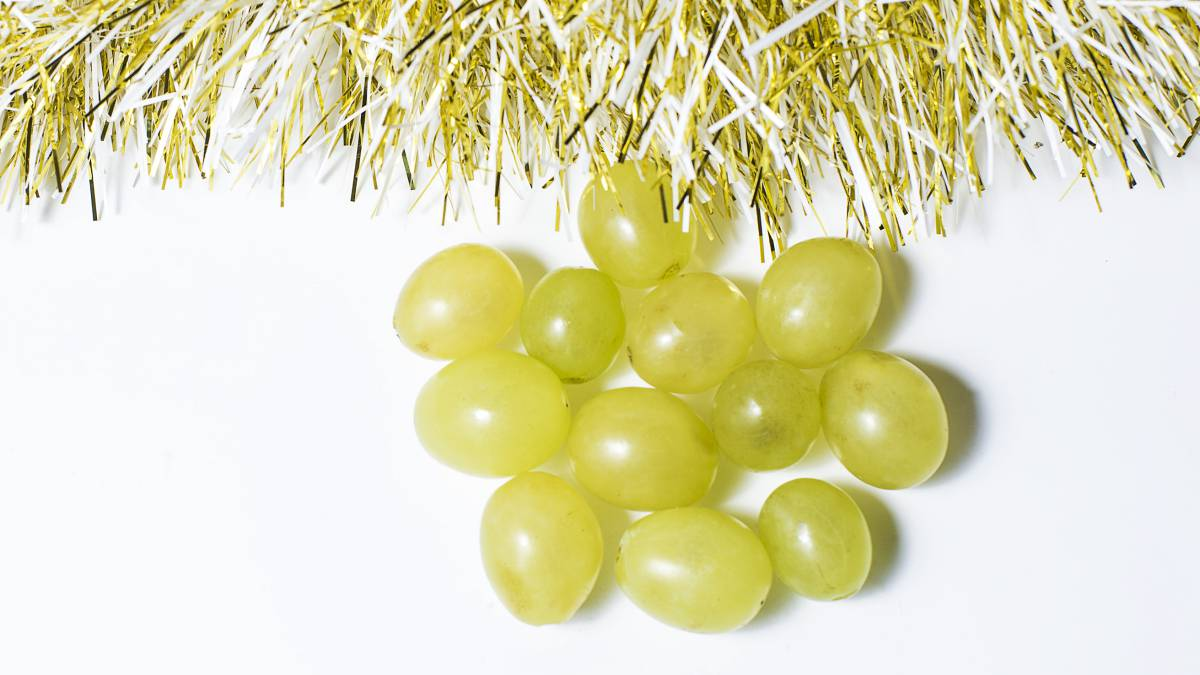Green grapes: (382, 159, 950, 629)
